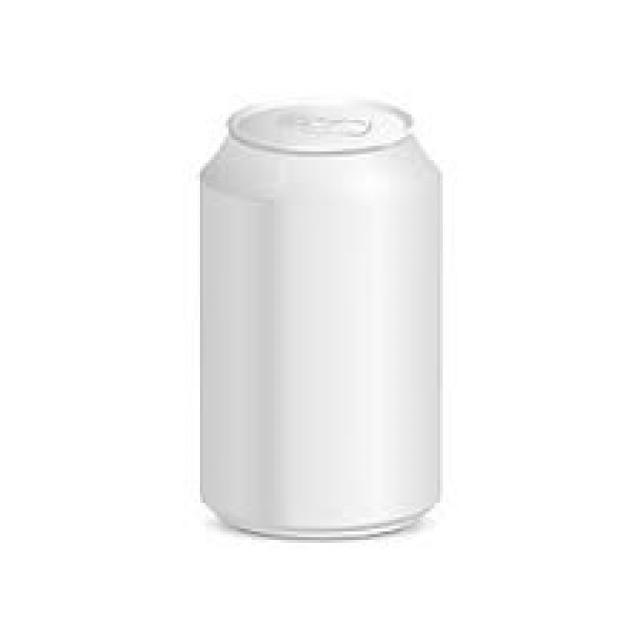recyclable: (200, 99, 442, 542)
